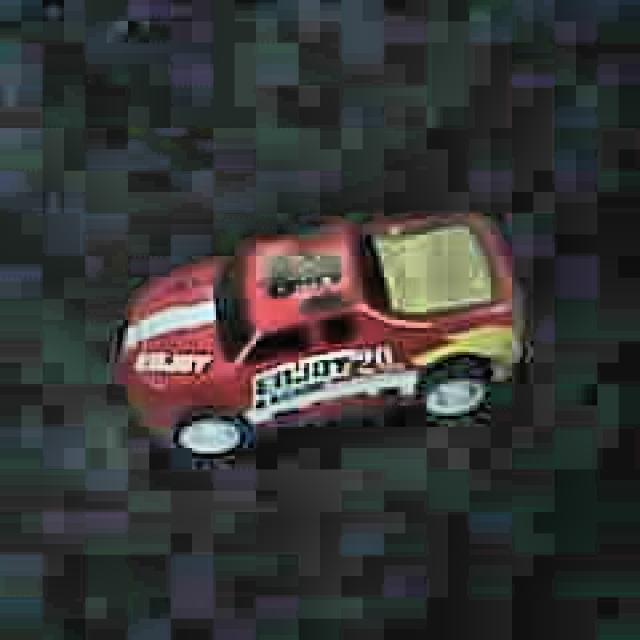car: (102, 201, 535, 464)
